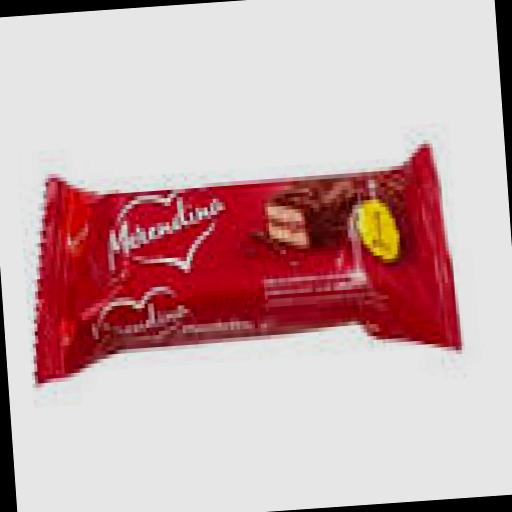merendina: (24, 122, 476, 401)
